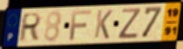7: (142, 7, 163, 40)
8: (42, 10, 63, 44)
F: (68, 9, 93, 42)
K: (93, 9, 114, 41)
R: (17, 12, 43, 44)
Z: (116, 8, 142, 40)
